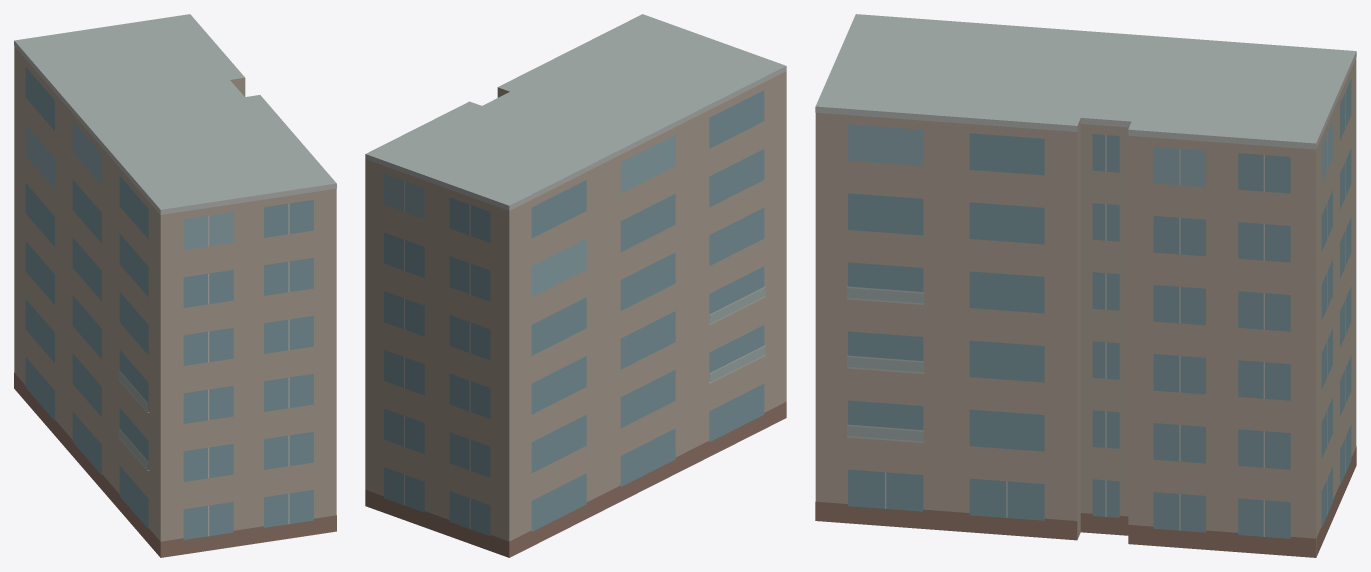
Rendered from survey-upis-32670834.glb.
The picture shows the model from 3 angles, left to right: view 1: azimuth 30°, elevation 25°; view 2: azimuth 150°, elevation 25°; view 3: azimuth 270°, elevation 25°; orthographic projection. The views are drawn at different scales.
Parts seen in each view (by area): view 1: survey-upis-32670834.tmp; view 2: survey-upis-32670834.tmp; view 3: survey-upis-32670834.tmp.
Part boxes in pixels (x1,y1,x2,y2): survey-upis-32670834.tmp: [14, 14, 336, 557]; survey-upis-32670834.tmp: [365, 14, 786, 557]; survey-upis-32670834.tmp: [815, 14, 1356, 557].
Size of the model in its own units: 11.07 by 16.5 by 19.53.
